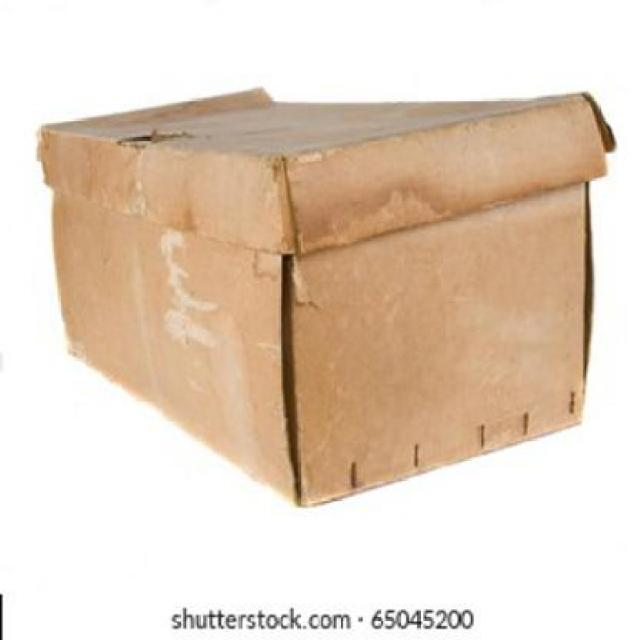defect: (29, 72, 611, 511)
